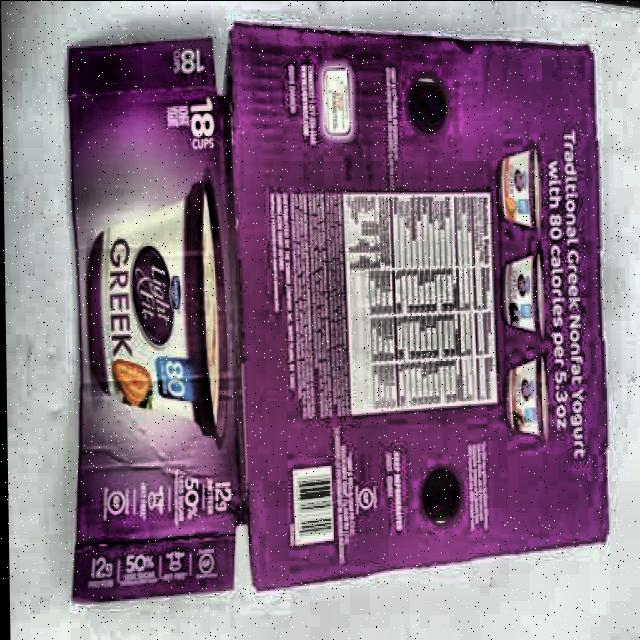cardboard: (223, 21, 611, 594), (62, 37, 249, 605)
